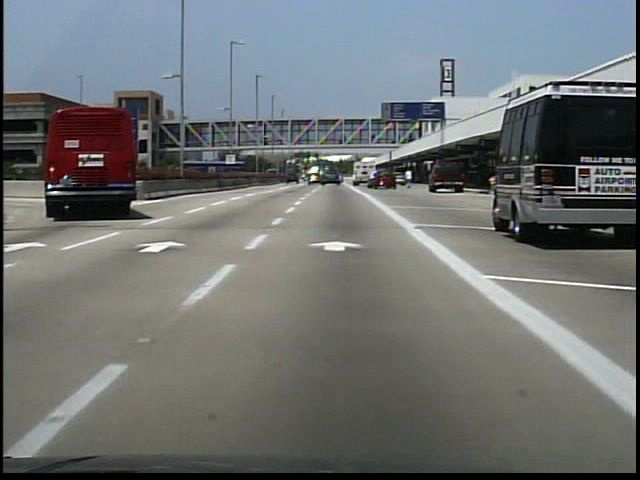person: (402, 169, 416, 191)
